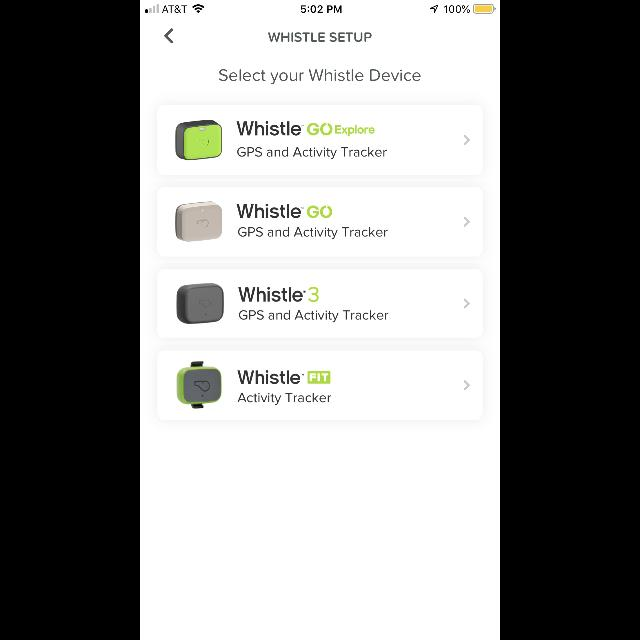icon: (164, 28, 173, 44), (464, 381, 470, 391), (464, 298, 470, 308), (464, 217, 470, 227), (464, 135, 470, 145)
image: (176, 361, 222, 409), (176, 282, 224, 324), (175, 120, 222, 160), (175, 202, 222, 242)
text: (219, 70, 421, 84), (238, 227, 388, 240), (237, 122, 375, 136), (238, 147, 386, 159), (240, 310, 388, 322), (237, 204, 333, 218), (238, 370, 330, 384), (239, 288, 319, 302), (238, 393, 330, 405), (268, 32, 372, 42)
uppertaskbar: (140, 0, 500, 14)
